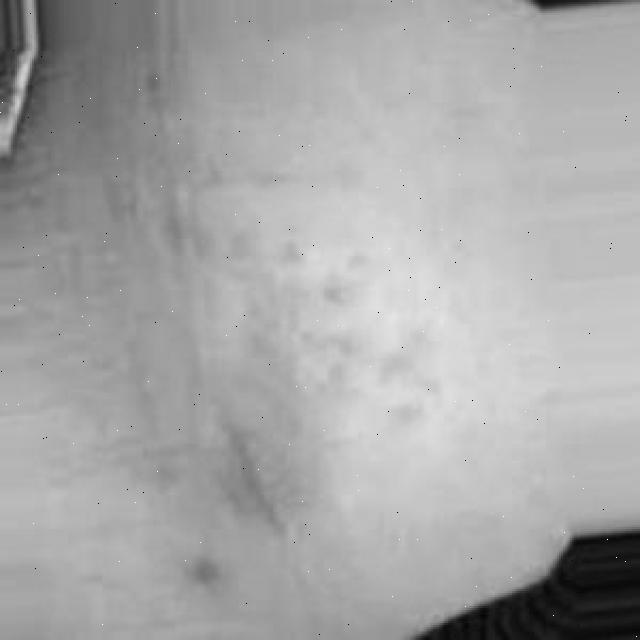Shingles: (211, 268, 419, 537)
